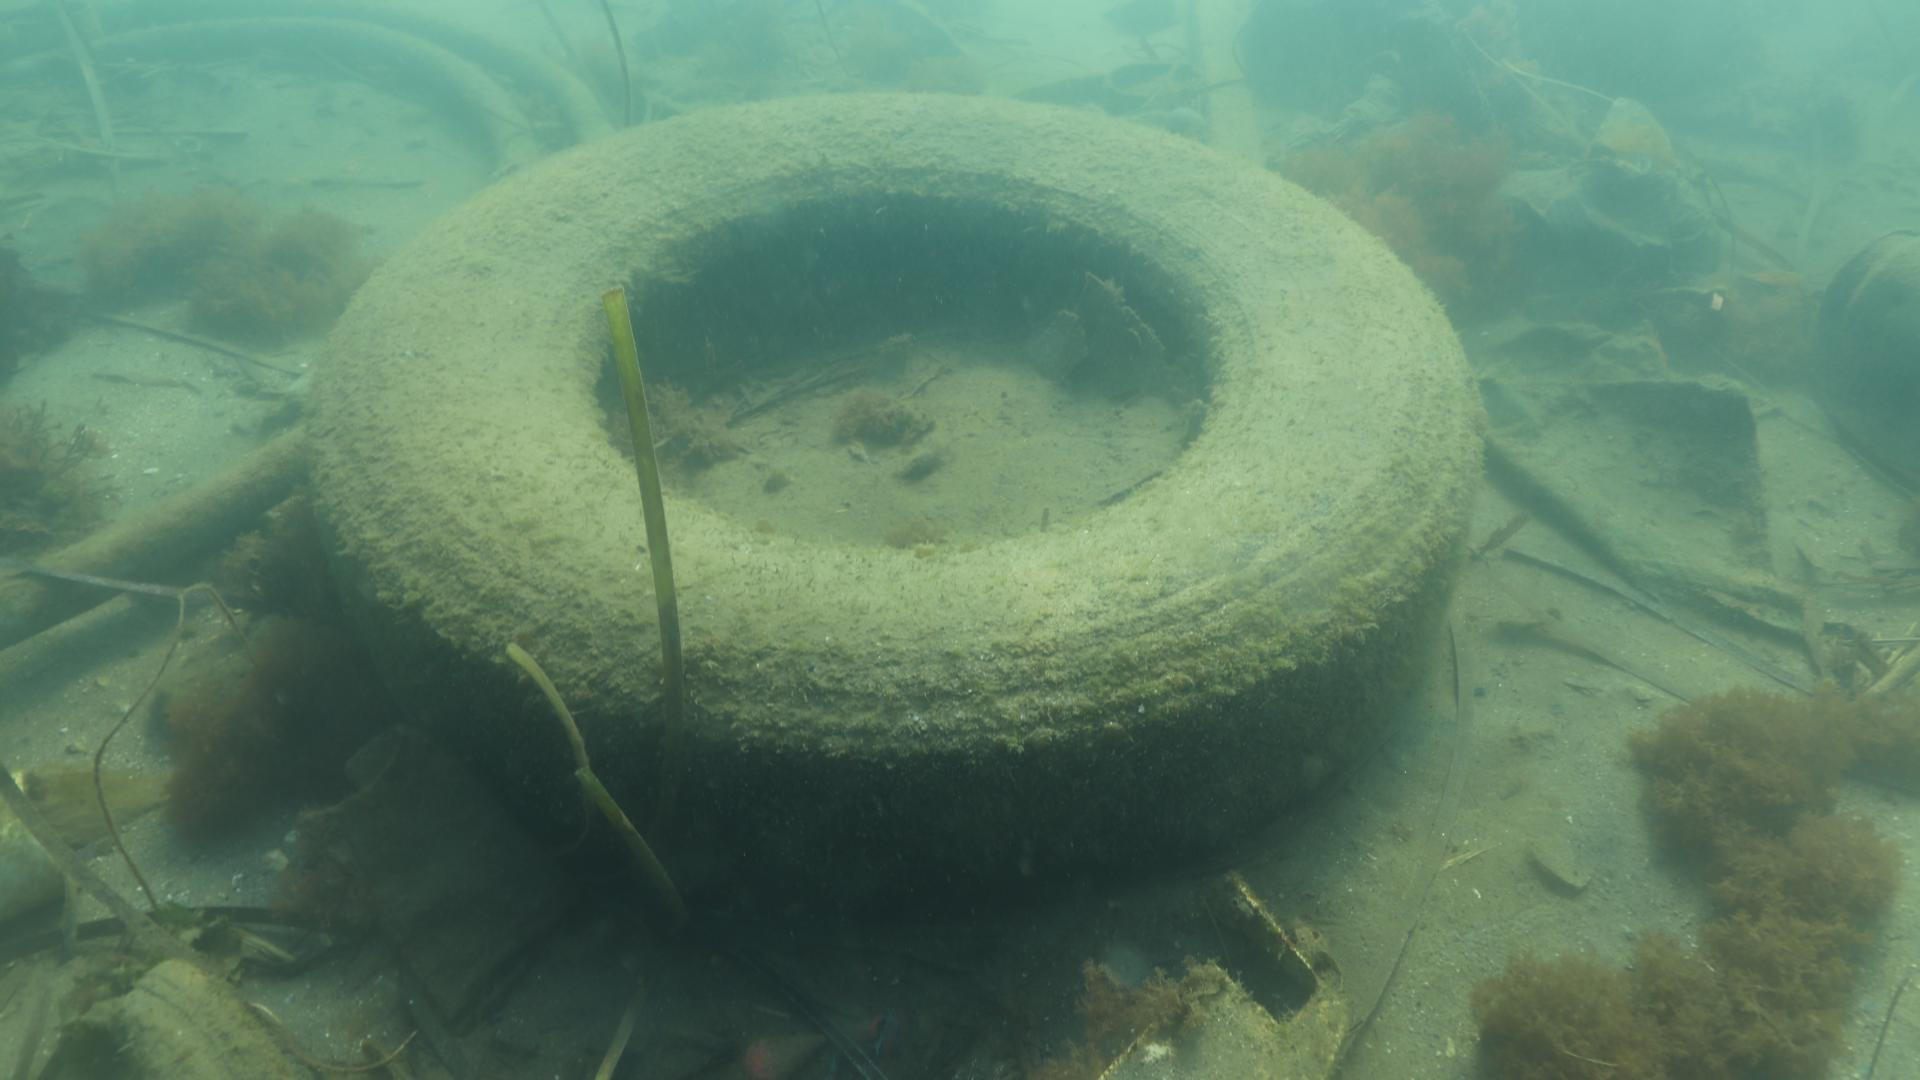tire: (301, 91, 1481, 910)
